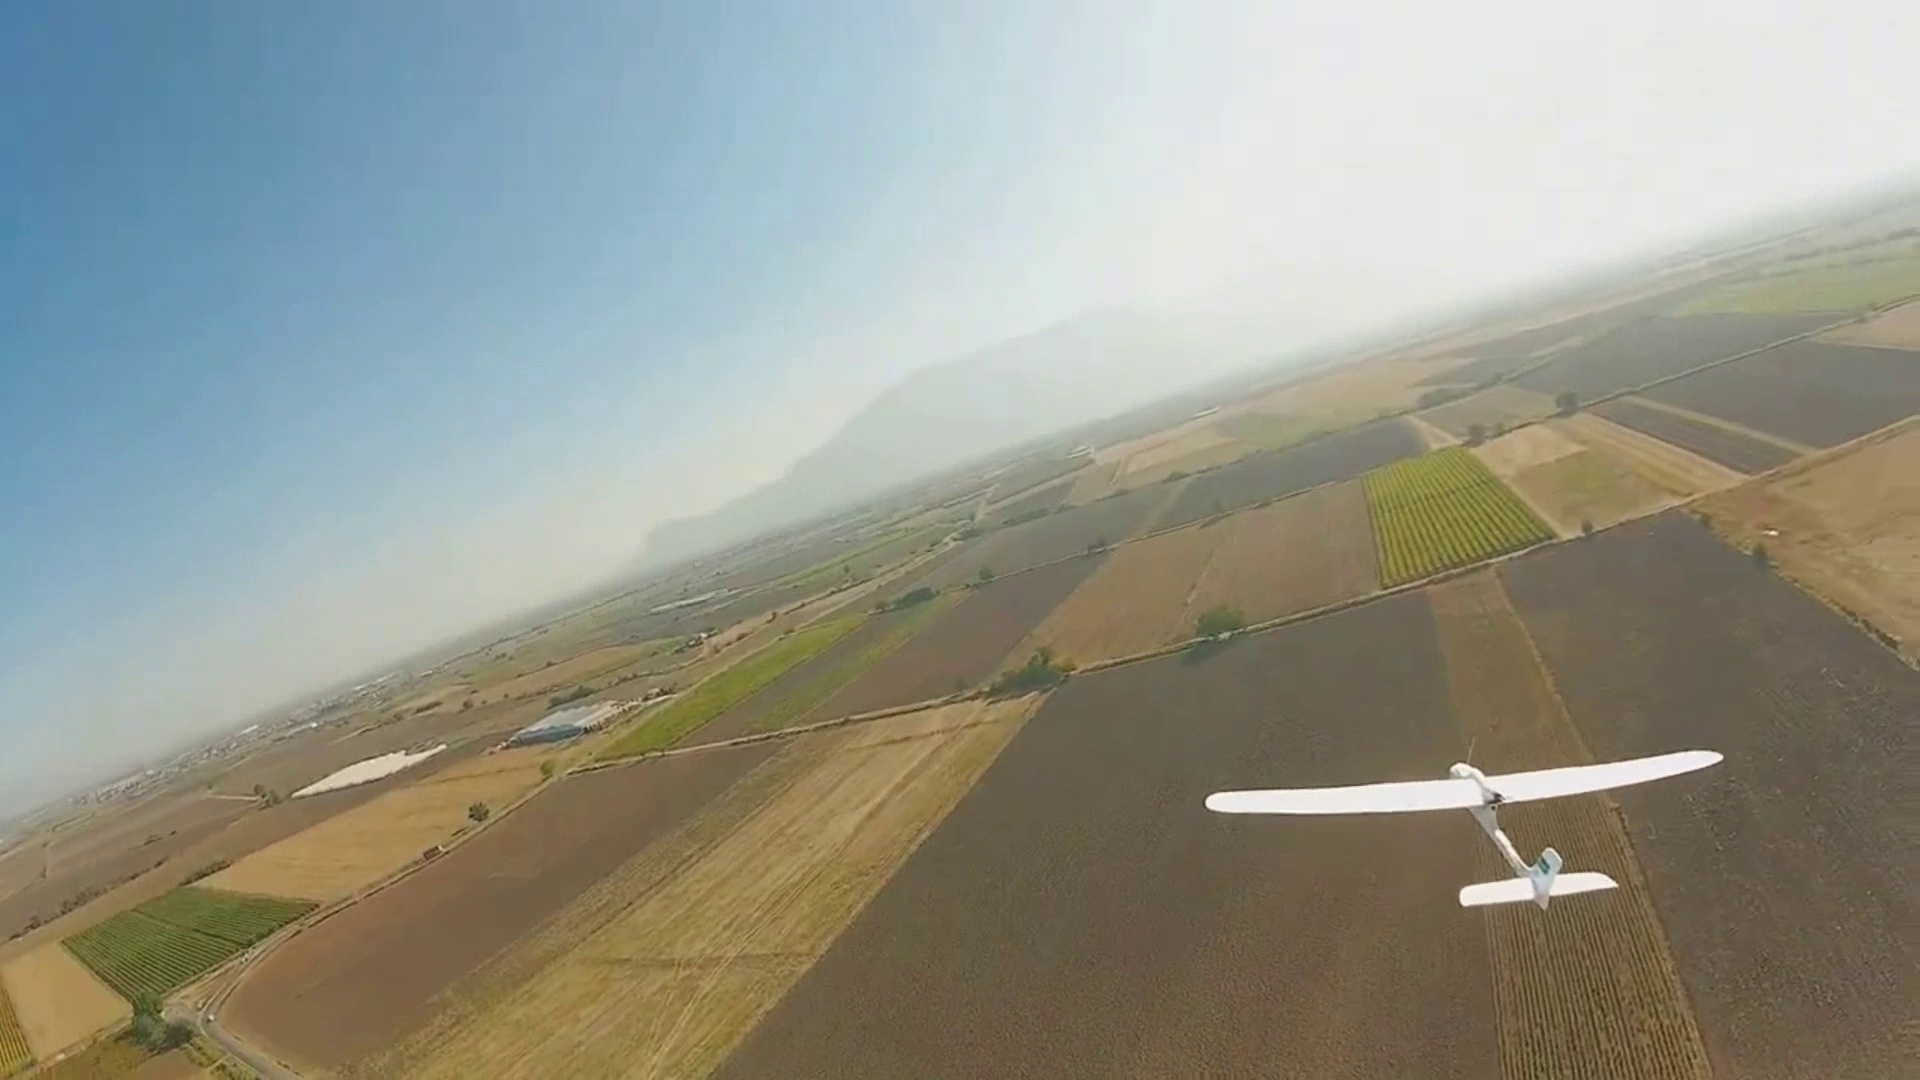airplane: (5, 190, 1920, 1068)
